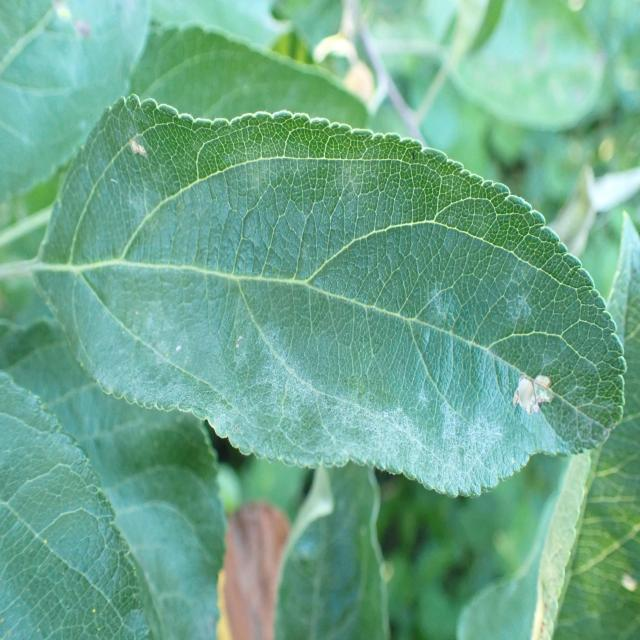Powdery_mildew: (49, 70, 624, 498)
